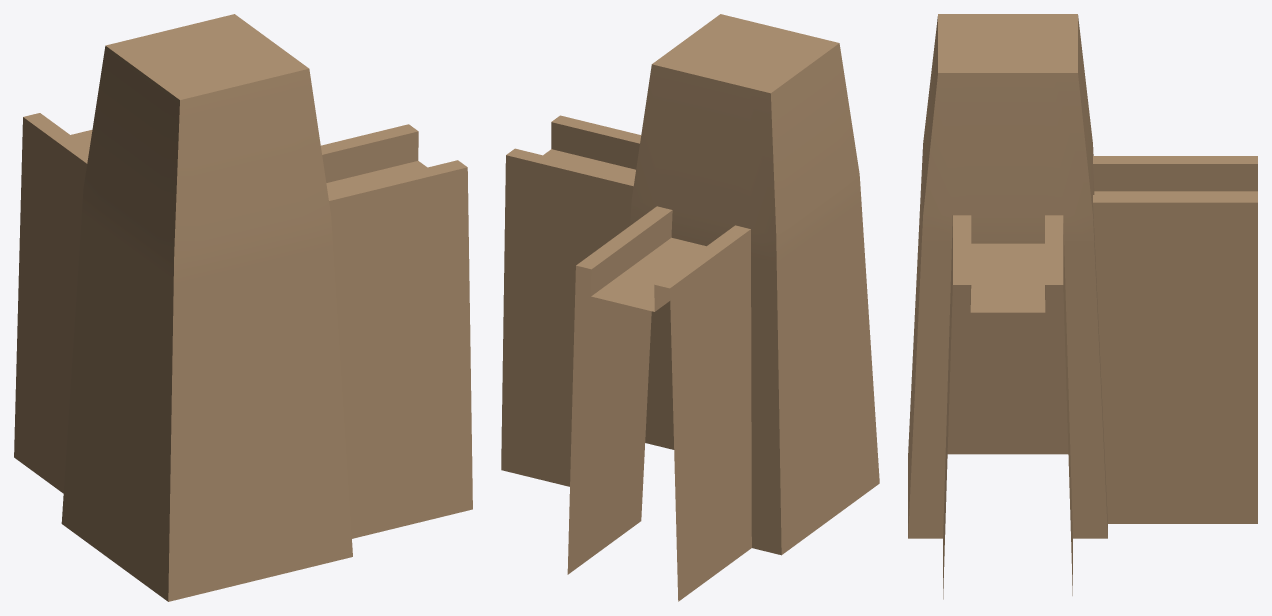
The model's file is Wall_Corner.fbx.
3 views of the same model, side by side, from view 1: azimuth 30°, elevation 25°; view 2: azimuth 150°, elevation 25°; view 3: azimuth 270°, elevation 25° (orthographic). The views are drawn at different scales.
Visible parts, largest first — view 1: Wall_Corner; view 2: Wall_Corner; view 3: Wall_Corner.
Part boxes in pixels (box(x1,y1,x2,y2)): Wall_Corner: box(14, 14, 472, 601); Wall_Corner: box(501, 14, 879, 601); Wall_Corner: box(908, 14, 1257, 599).
Bounding box in the file's own units: 525 × 750 × 525.
Materials: 1 (1 with a texture image).
